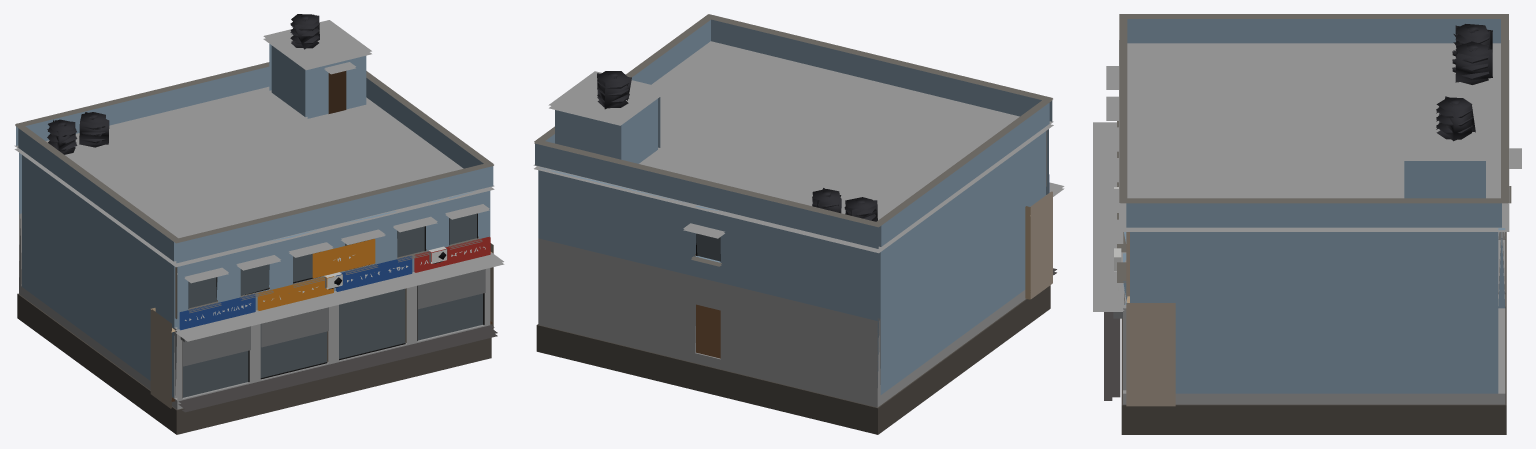
The model's file is commercial_16x14_2_far.glb.
3 views of the same model, side by side, from view 1: azimuth 30°, elevation 25°; view 2: azimuth 150°, elevation 25°; view 3: azimuth 270°, elevation 25° (orthographic). The views are drawn at different scales.
Parts seen in each view (by area): view 1: commercial_16x14_2; view 2: commercial_16x14_2; view 3: commercial_16x14_2.
Part boxes in pixels (x1=…): commercial_16x14_2: x1=14, y1=14, x2=504, y2=434; commercial_16x14_2: x1=533, y1=14, x2=1064, y2=434; commercial_16x14_2: x1=1093, y1=14, x2=1521, y2=434.
Bounding box in the file's own units: 16.5 × 12.3 × 15.71.
